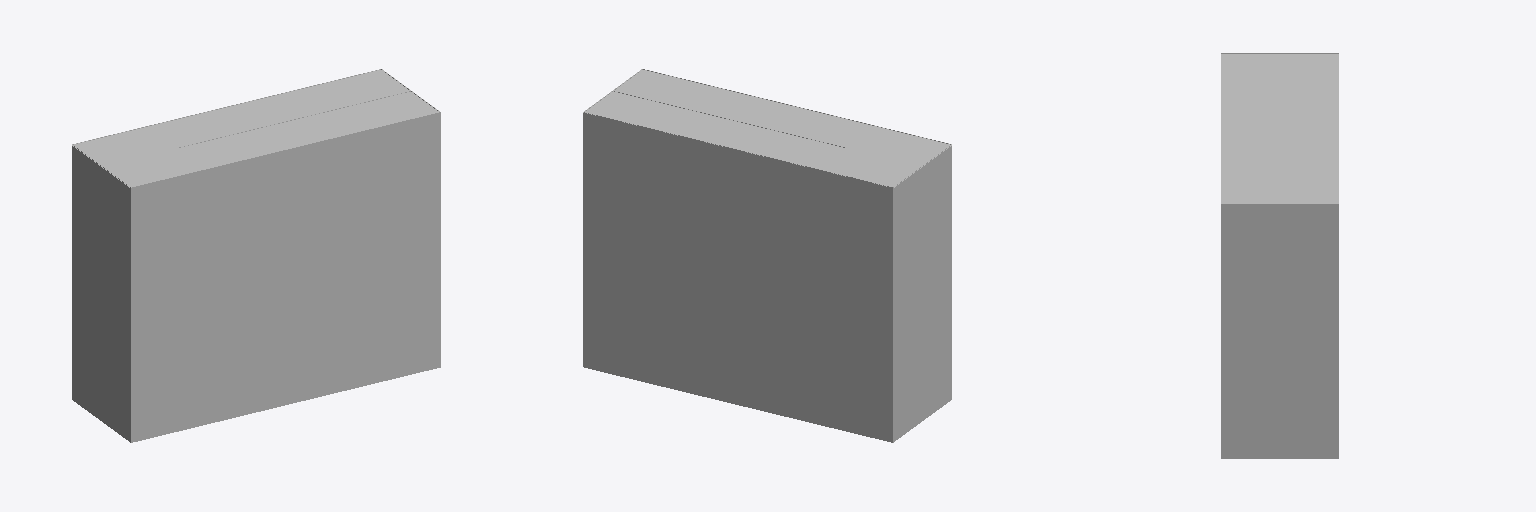
Rendered from lvl4.obj.
3 renders of one model, left to right at view 1: azimuth 30°, elevation 25°; view 2: azimuth 150°, elevation 25°; view 3: azimuth 270°, elevation 25°, orthographic.
Visible parts, largest first — view 1: Cube.001_Cube.002; view 2: Cube.001_Cube.002; view 3: Cube.001_Cube.002.
Part boxes in pixels (left/top/right/bottom): Cube.001_Cube.002: left=72, top=69, right=440, bottom=442; Cube.001_Cube.002: left=583, top=69, right=951, bottom=442; Cube.001_Cube.002: left=1221, top=53, right=1338, bottom=458.
Bounding box in the file's own units: 73.63 × 57.9 × 24.33.